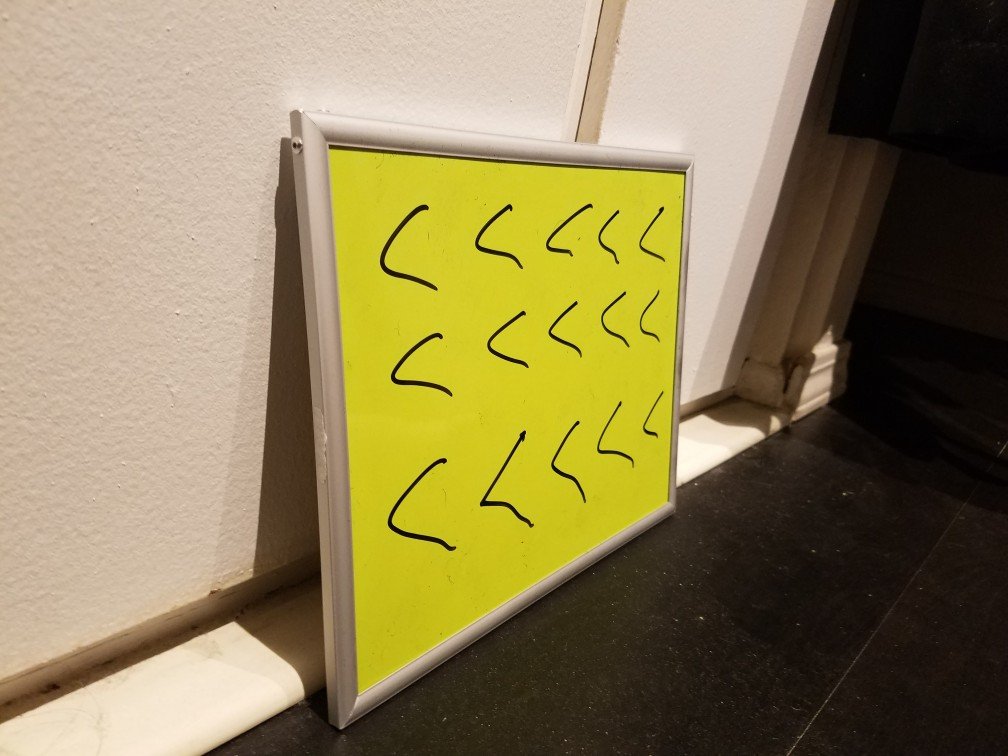<: (377, 452, 456, 560), (358, 199, 436, 295), (471, 422, 529, 539), (540, 192, 595, 275), (381, 334, 447, 401), (463, 194, 516, 275), (540, 415, 581, 507), (591, 395, 635, 471), (481, 307, 522, 376), (635, 201, 665, 273), (548, 297, 581, 360), (598, 289, 627, 354), (640, 387, 669, 451), (594, 206, 622, 266), (638, 287, 664, 345)
